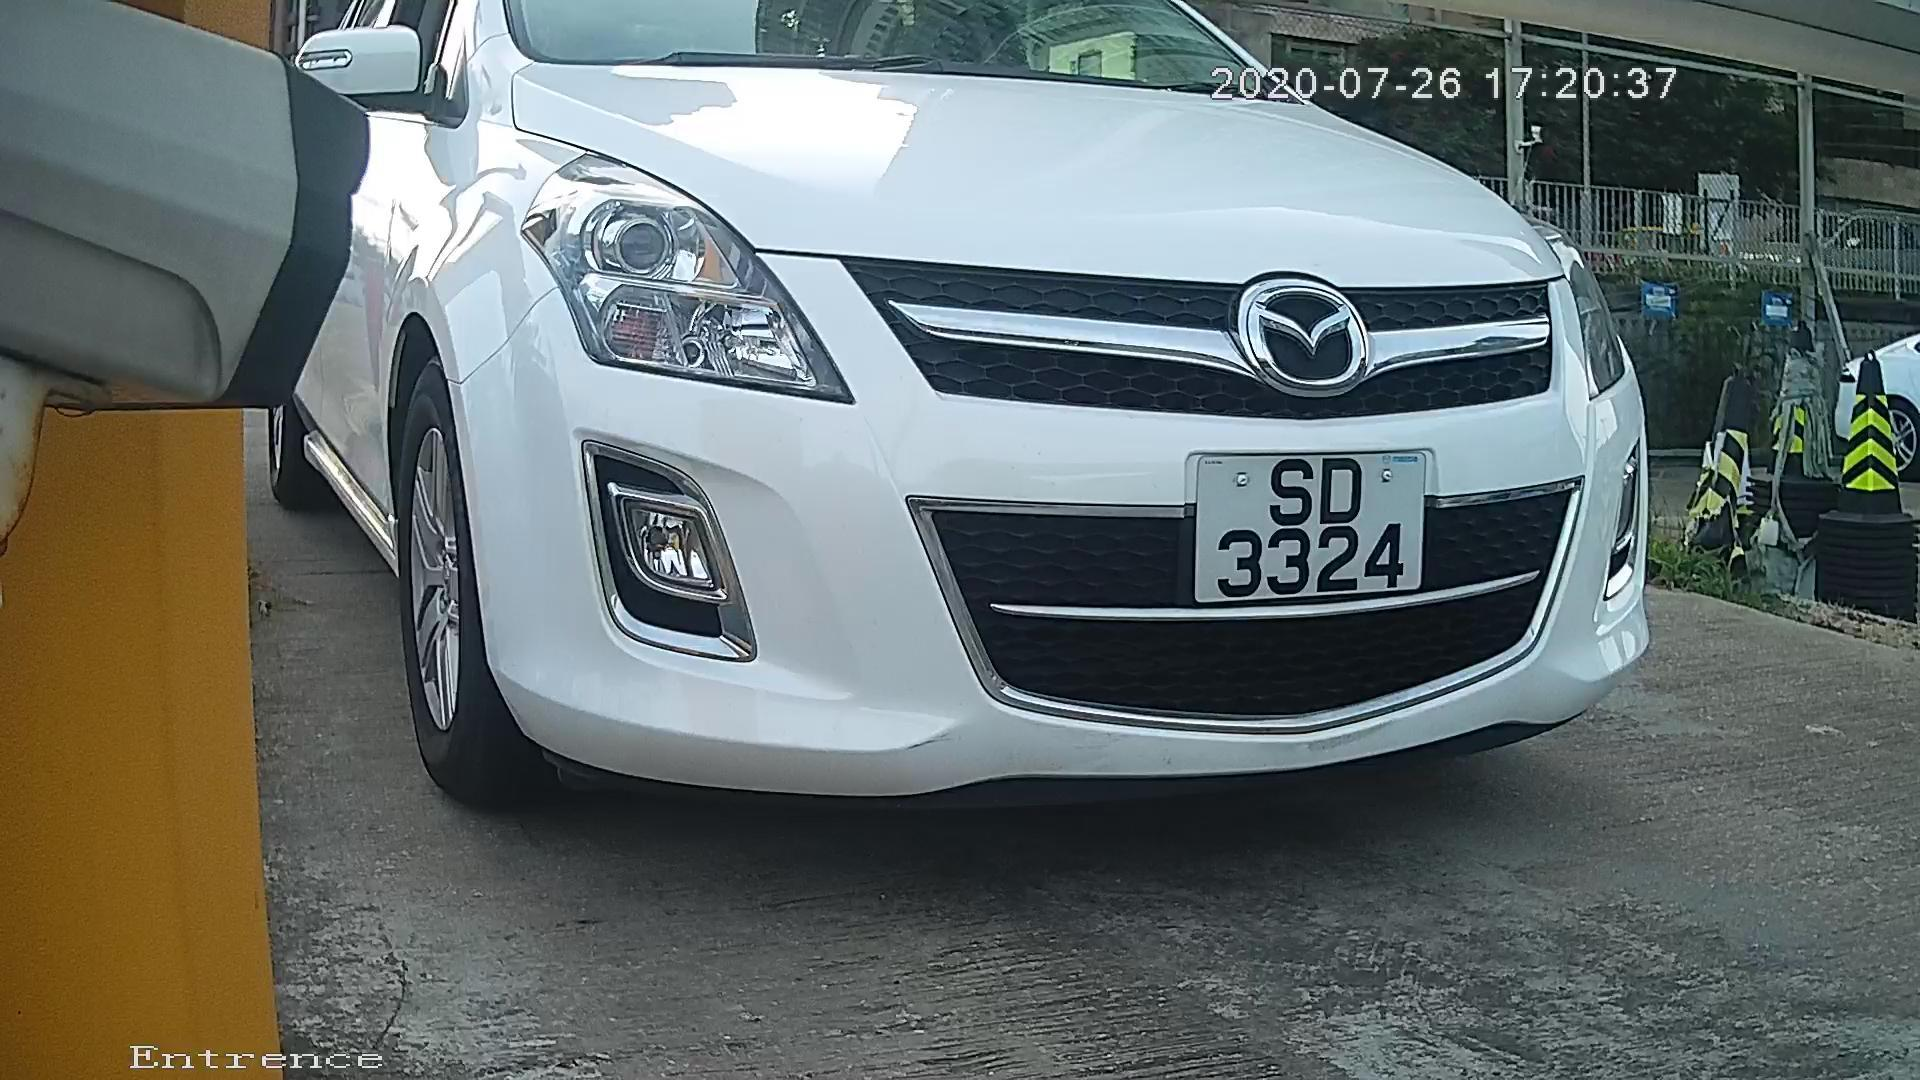privatecar: (309, 1, 1687, 886)
